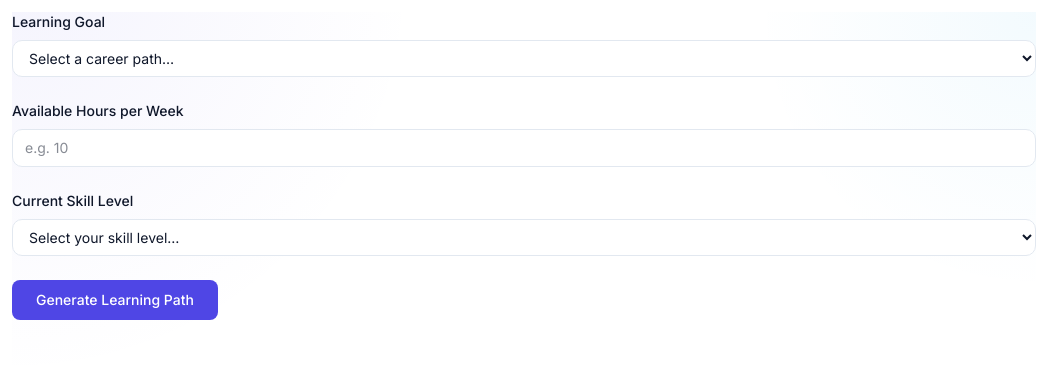
Scenario: PathGeneratorPage validation messages › shows an error when no skill level is selected (Req 10.5)
The width and height of the screenshot is (1048, 365).
Select "Frontend" in the dropdown labelled "Learning Goal": (524, 58) [12,40,1036,77]
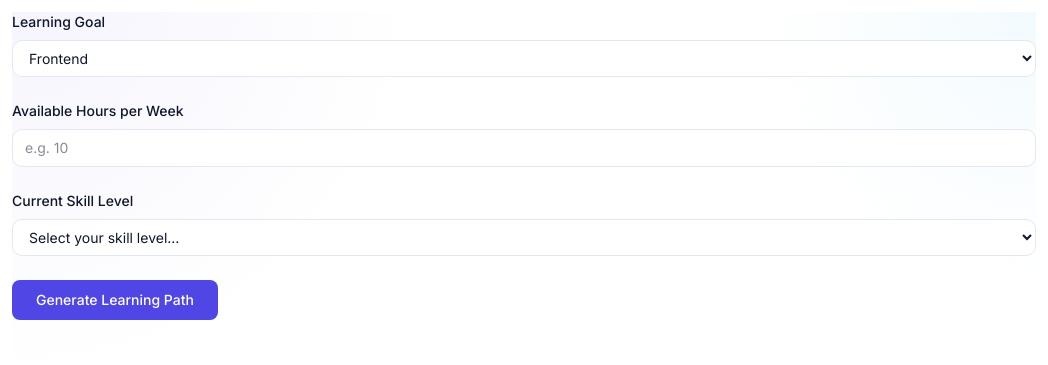
In the number field labelled "Available Hours per Week": (524, 148) [12,129,1036,167], type "10"
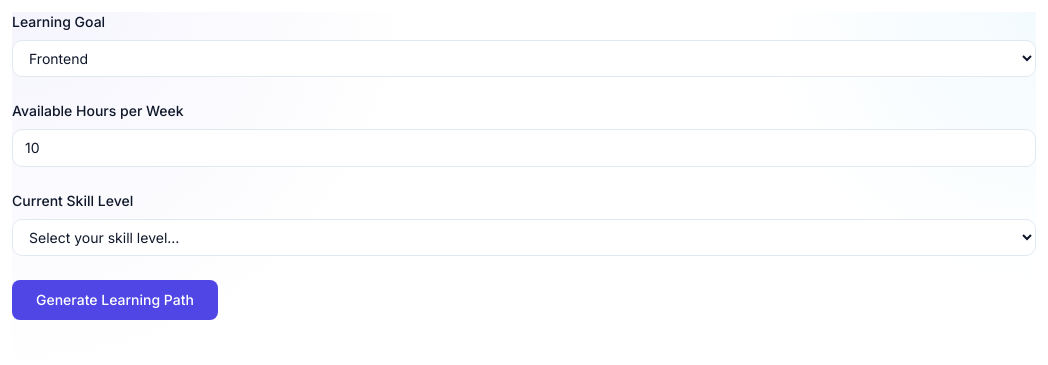
// Skill level left empty
Click the button "Generate Learning Path": (115, 300) [12,280,218,320]
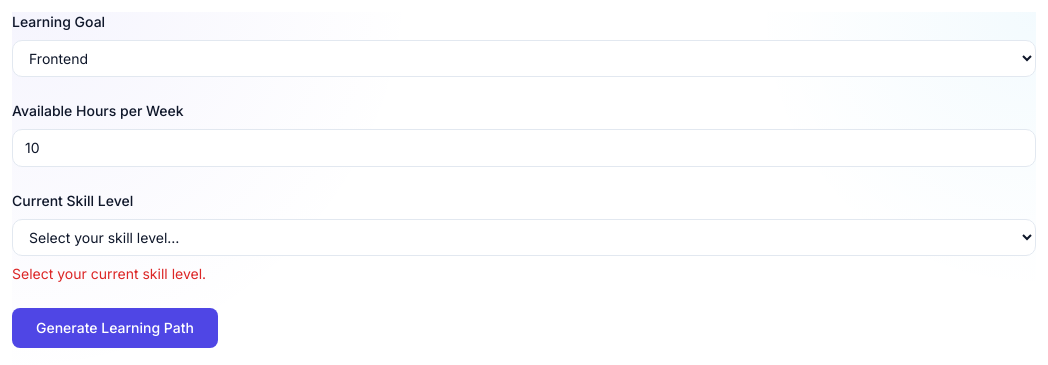
Expected: the text "Select your current skill level." is shown, [12,265,206,282]
